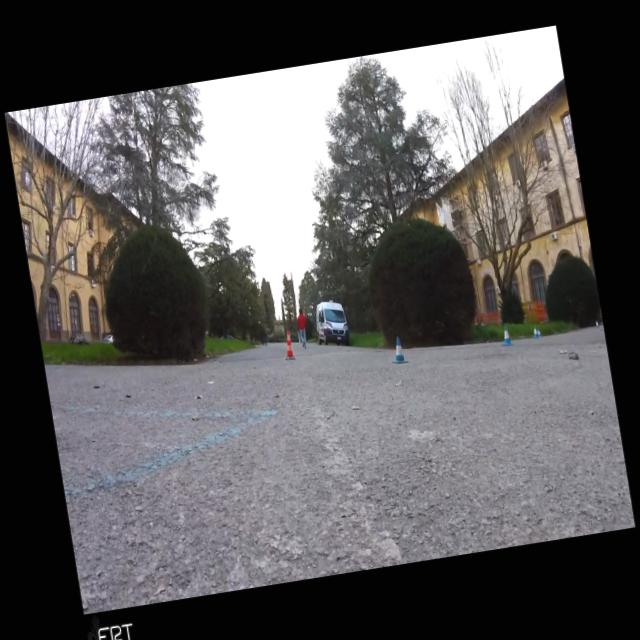blue_cone: (388, 335, 409, 364), (498, 324, 514, 346), (533, 326, 538, 338), (538, 329, 542, 338), (595, 319, 599, 328)
large_orange_cone: (282, 330, 296, 360)
